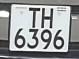3: (26, 28, 40, 51)
6: (13, 28, 27, 50), (53, 28, 66, 51)
9: (39, 28, 54, 51)
H: (40, 6, 55, 31)
T: (27, 5, 41, 31)
